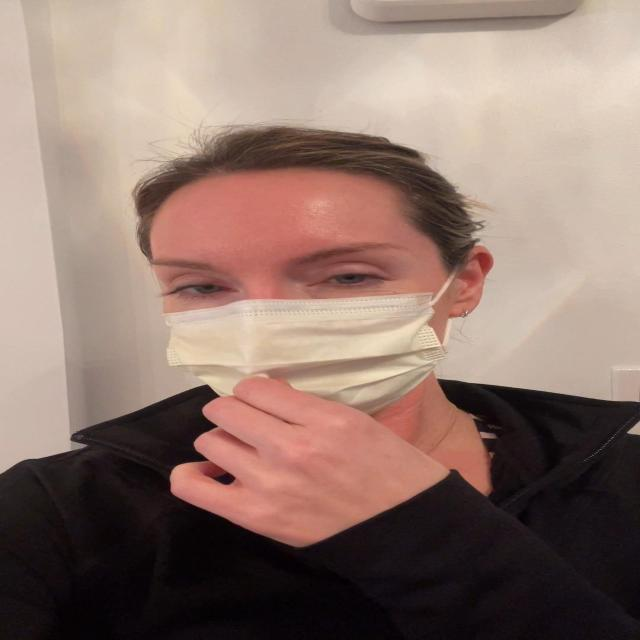no-helmet: (122, 149, 494, 415)
